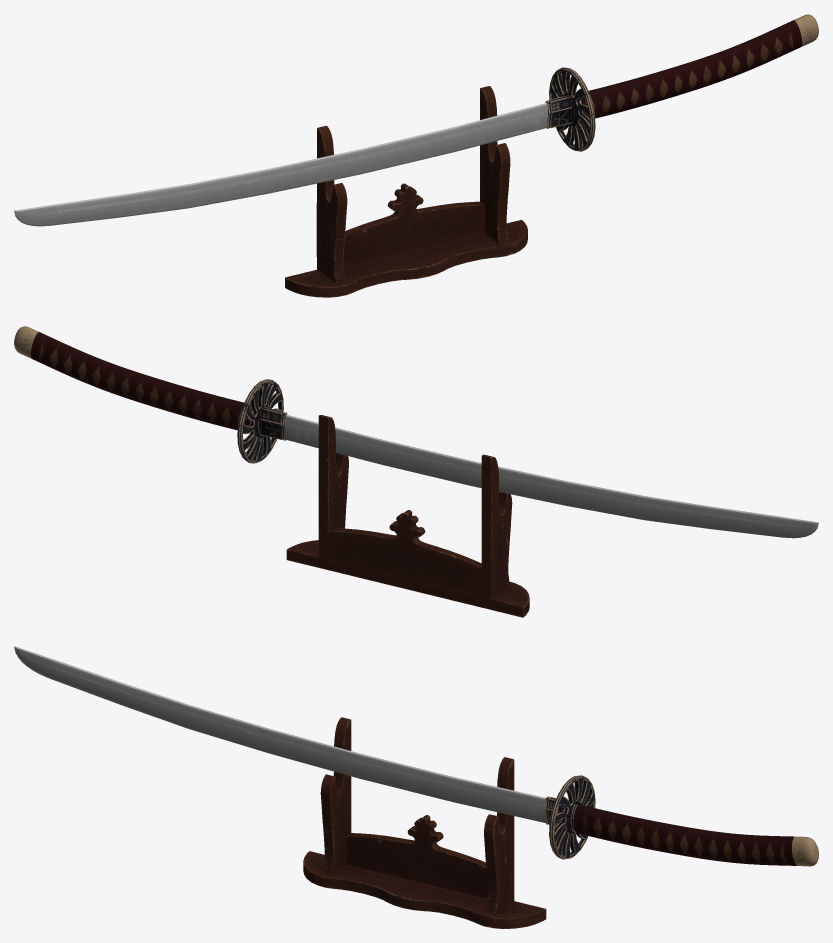
The model's file is otaku-display-reduced.glb.
The picture shows the model from 3 angles, top to bottom: view 1: azimuth 30°, elevation 25°; view 2: azimuth 150°, elevation 25°; view 3: azimuth 330°, elevation 25°; orthographic projection.
Visible parts, largest first — view 1: antique_katana_01, katana_stand_01; view 2: antique_katana_01, katana_stand_01; view 3: antique_katana_01, katana_stand_01.
Boxes of the visible parts, bbox=[...] form: antique_katana_01: bbox=[14, 14, 818, 226]; katana_stand_01: bbox=[285, 86, 527, 297]; antique_katana_01: bbox=[14, 326, 818, 538]; katana_stand_01: bbox=[286, 415, 529, 617]; antique_katana_01: bbox=[14, 646, 818, 866]; katana_stand_01: bbox=[303, 717, 546, 928].
Bounding box in the file's own units: 1 × 0.1905 × 0.0934.
2 materials, 2 textured.
